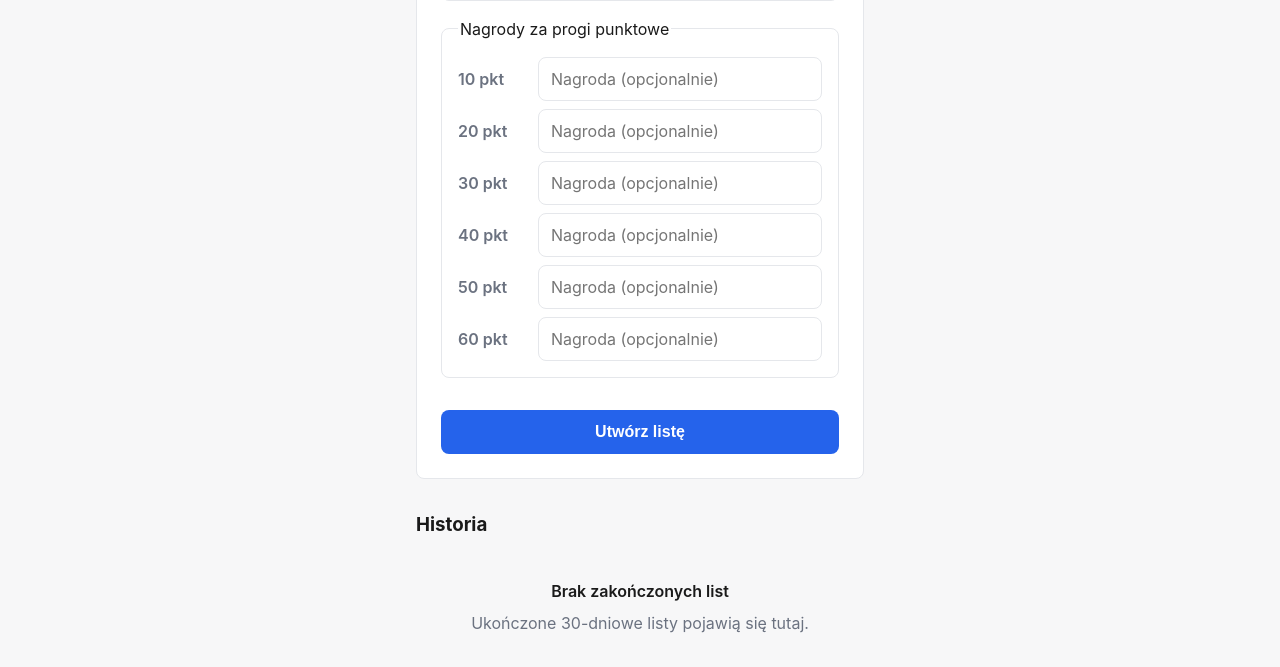
Test case: ChallengePage (FE-P2/P3) › tworzenie: walidacja — bez żadnej nagrody nie woła API, pokazuje błąd
(page scrolled)
Click the button "Utwórz listę". click: click(640, 432)
box: [441,410,839,454]
(page scrolled)
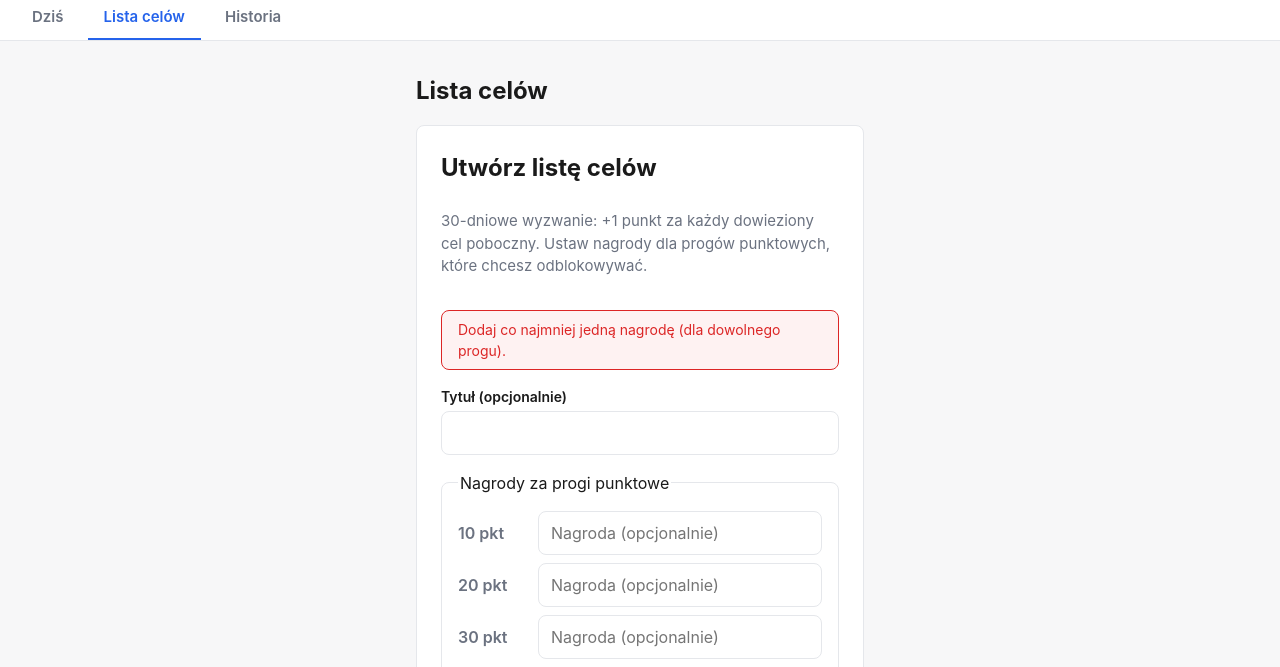
Result: the message shows "co najmniej jedną nagrodę" at [458,320,780,358]
